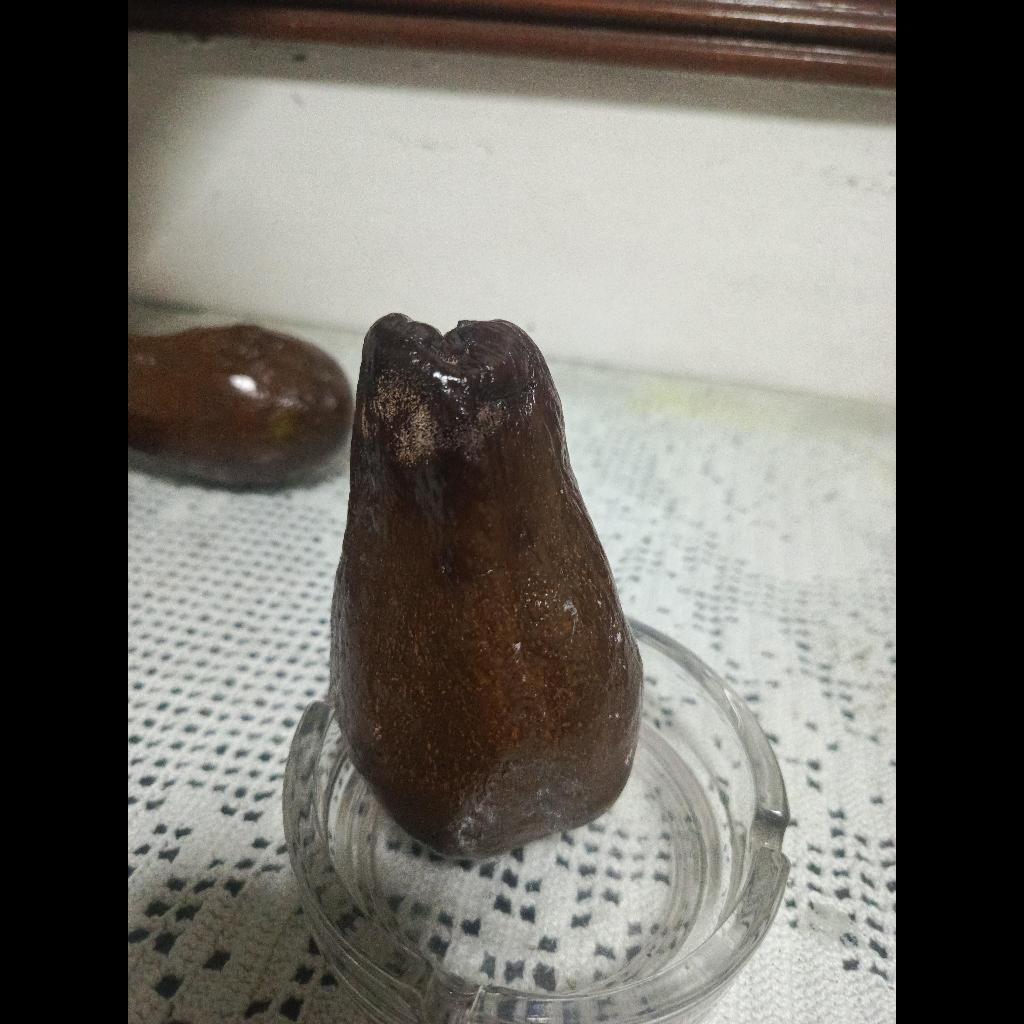pudricion_peduncular: (329, 314, 643, 858)
